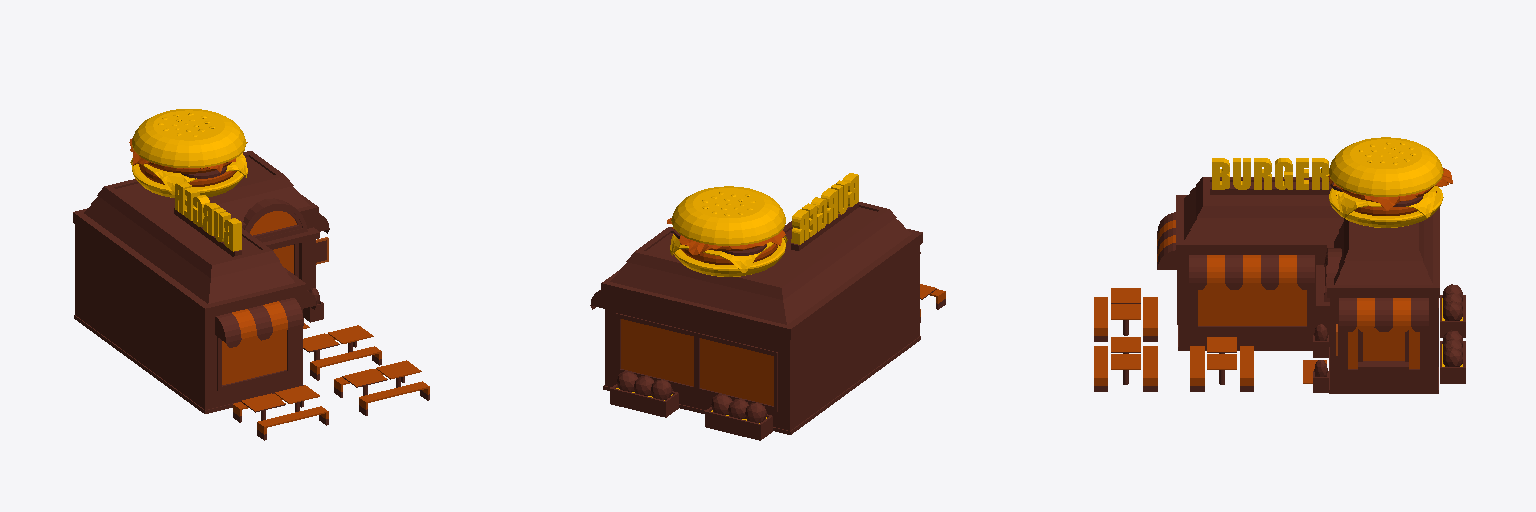
The picture shows the model from 3 angles: view 1: azimuth 30°, elevation 25°; view 2: azimuth 150°, elevation 25°; view 3: azimuth 270°, elevation 25°; orthographic projection.
Parts seen in each view (by area): view 1: BurgerBuilding; view 2: BurgerBuilding; view 3: BurgerBuilding.
Boxes of the visible parts, x1,y1,x2,y2 form: BurgerBuilding: [73, 109, 429, 440]; BurgerBuilding: [590, 173, 945, 440]; BurgerBuilding: [1094, 137, 1465, 393].
Bounding box in the file's own units: 4.21 × 3.75 × 6.57.
1 materials, 1 textured.